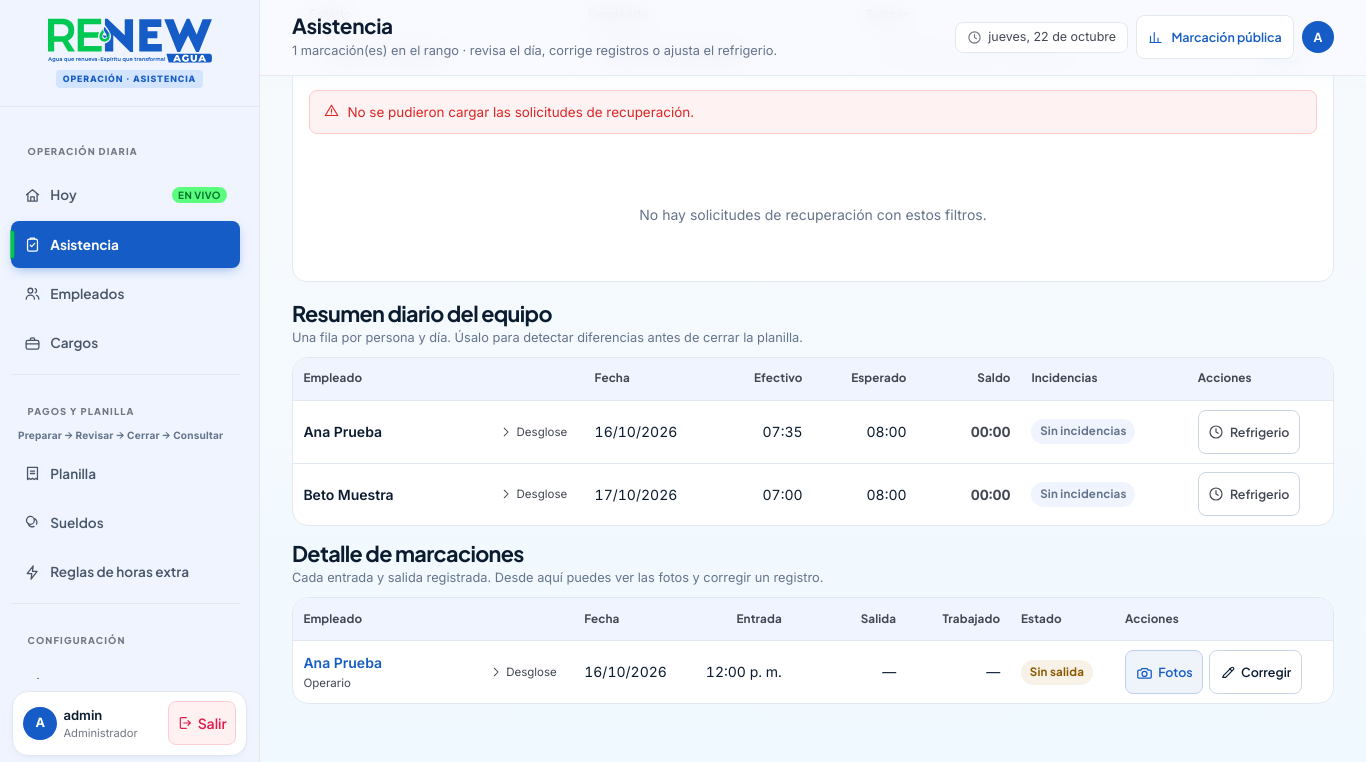
it: Admin — tablas de asistencia › el resumen diario expone sesiones, presencia, refrigerio y su origen en un desglose en línea
(page scrolled)
Click the button "Desglose" in the row of "07:35" at (533, 432), box left=493, top=410, right=574, bottom=454
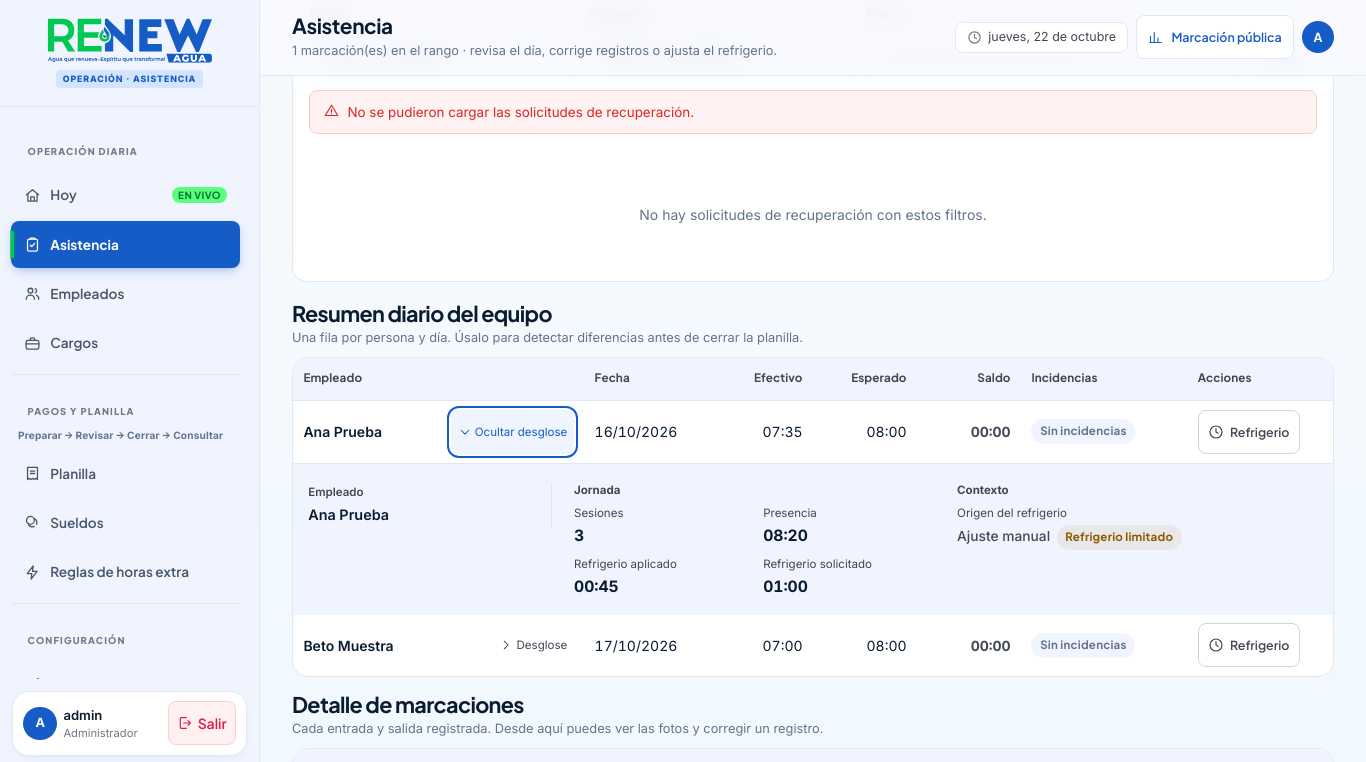
Expected: the 3rd row shows "Sesion", left=574, top=506, right=624, bottom=520
Expected: the 3rd row shows "Refrigerio", left=574, top=557, right=677, bottom=571
Expected: the 3rd row shows "limitado", left=1065, top=529, right=1173, bottom=544
Click the button "Desglose" at (533, 646), box left=493, top=624, right=574, bottom=668
(page scrolled)
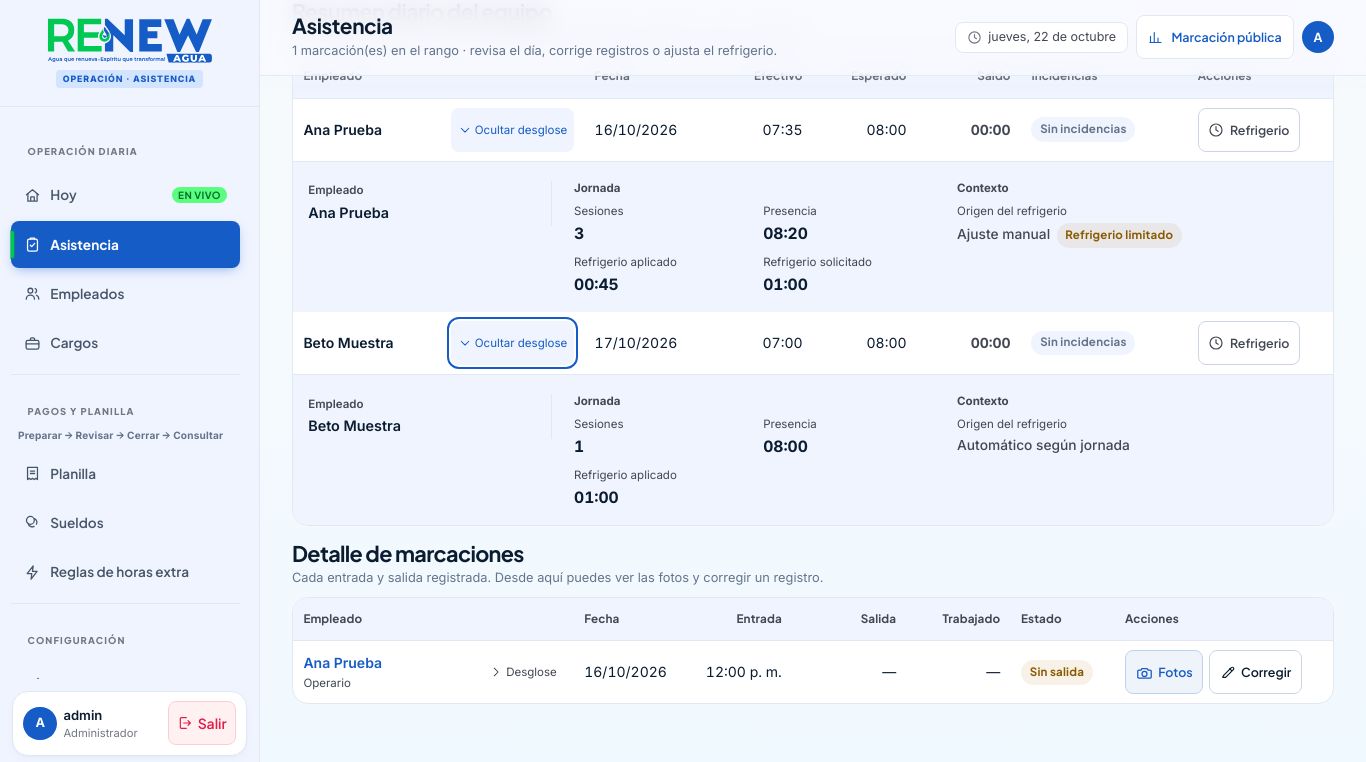
Expected: the 5th row does not show "limitado", left=293, top=374, right=1333, bottom=525
Expected: the 5th row shows "Sesion", left=574, top=417, right=624, bottom=431
Expected: the 5th row shows "Refrigerio", left=574, top=468, right=677, bottom=482
